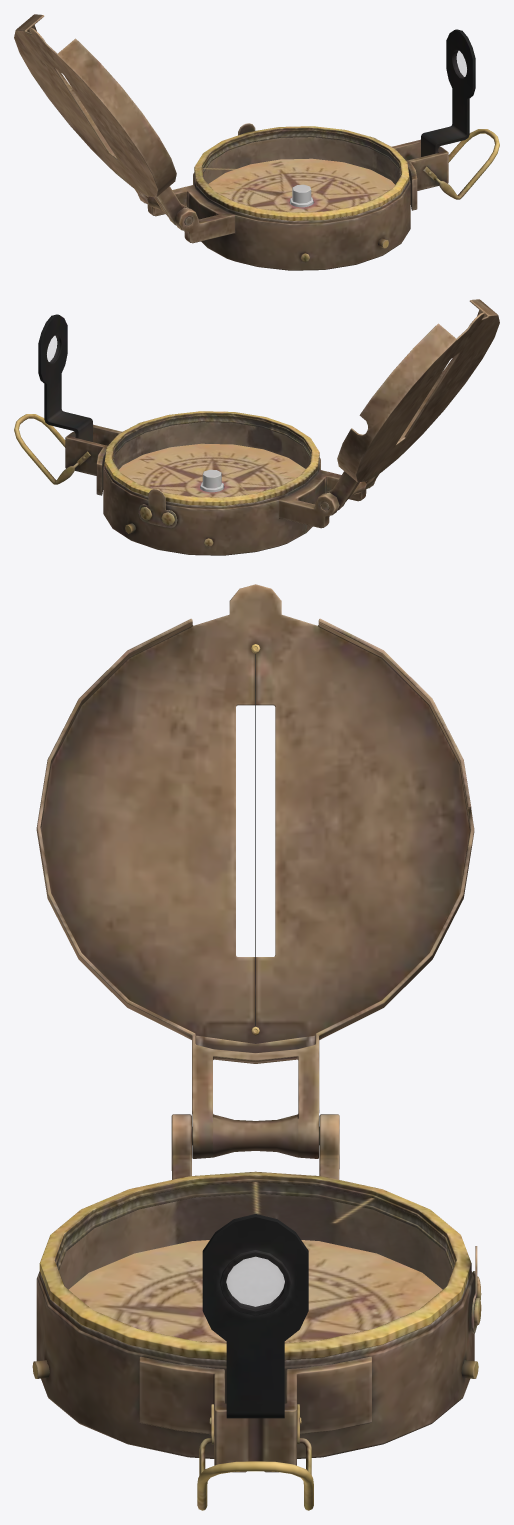
The picture shows the model from 3 angles, top to bottom: view 1: azimuth 30°, elevation 25°; view 2: azimuth 150°, elevation 25°; view 3: azimuth 270°, elevation 25°; orthographic projection. The views are drawn at different scales.
Visible parts, largest first — view 1: Base_low, Glass_low, Cover_low, Floating_Dial_low, Bezel_Ring_low, Rear_Sight_low, Sight_Holder_low, Thumb_Loop_low, Dail_Holder_low; view 2: Base_low, Glass_low, Cover_low, Floating_Dial_low, Bezel_Ring_low, Rear_Sight_low, Sight_Holder_low, Thumb_Loop_low, Cover_Lock_low, Dail_Holder_low, Screws_low; view 3: Cover_low, Base_low, Glass_low, Floating_Dial_low, Bezel_Ring_low, Sight_Holder_low, Rear_Sight_low, Thumb_Loop_low, Lens_low.
Part boxes in pixels (left/top/right/bottom): Base_low: left=138, top=137, right=410, bottom=270; Glass_low: left=203, top=131, right=400, bottom=211; Cover_low: left=14, top=14, right=188, bottom=225; Floating_Dial_low: left=208, top=158, right=394, bottom=212; Bezel_Ring_low: left=194, top=126, right=409, bottom=220; Rear_Sight_low: left=421, top=29, right=475, bottom=156; Sight_Holder_low: left=392, top=139, right=448, bottom=210; Thumb_Loop_low: left=423, top=129, right=499, bottom=199; Dail_Holder_low: left=290, top=184, right=313, bottom=207; Base_low: left=103, top=422, right=375, bottom=555; Glass_low: left=113, top=416, right=310, bottom=496; Cover_low: left=325, top=299, right=499, bottom=510; Floating_Dial_low: left=119, top=443, right=305, bottom=497; Bezel_Ring_low: left=104, top=411, right=319, bottom=505; Rear_Sight_low: left=38, top=314, right=92, bottom=441; Sight_Holder_low: left=65, top=424, right=121, bottom=495; Thumb_Loop_low: left=14, top=414, right=90, bottom=484; Cover_Lock_low: left=138, top=489, right=177, bottom=528; Dail_Holder_low: left=200, top=469, right=223, bottom=492; Screws_low: left=82, top=456, right=213, bottom=547; Cover_low: left=36, top=584, right=474, bottom=1158; Base_low: left=36, top=1114, right=474, bottom=1458; Glass_low: left=57, top=1182, right=453, bottom=1342; Floating_Dial_low: left=68, top=1240, right=442, bottom=1342; Bezel_Ring_low: left=39, top=1171, right=471, bottom=1360; Sight_Holder_low: left=139, top=1356, right=371, bottom=1472; Rear_Sight_low: left=202, top=1214, right=308, bottom=1418; Thumb_Loop_low: left=197, top=1404, right=313, bottom=1510; Lens_low: left=226, top=1257, right=284, bottom=1308.
Size of the model in its own units: 0.1947 by 0.1057 by 0.082.
1 material, 1 textured.
